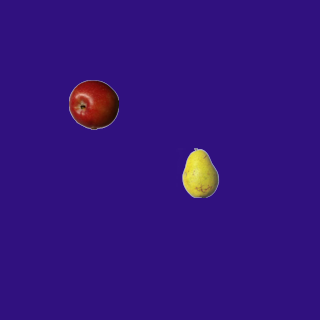Apple Braeburn: (68, 79, 118, 129)
Pear Monster: (175, 147, 225, 197)
